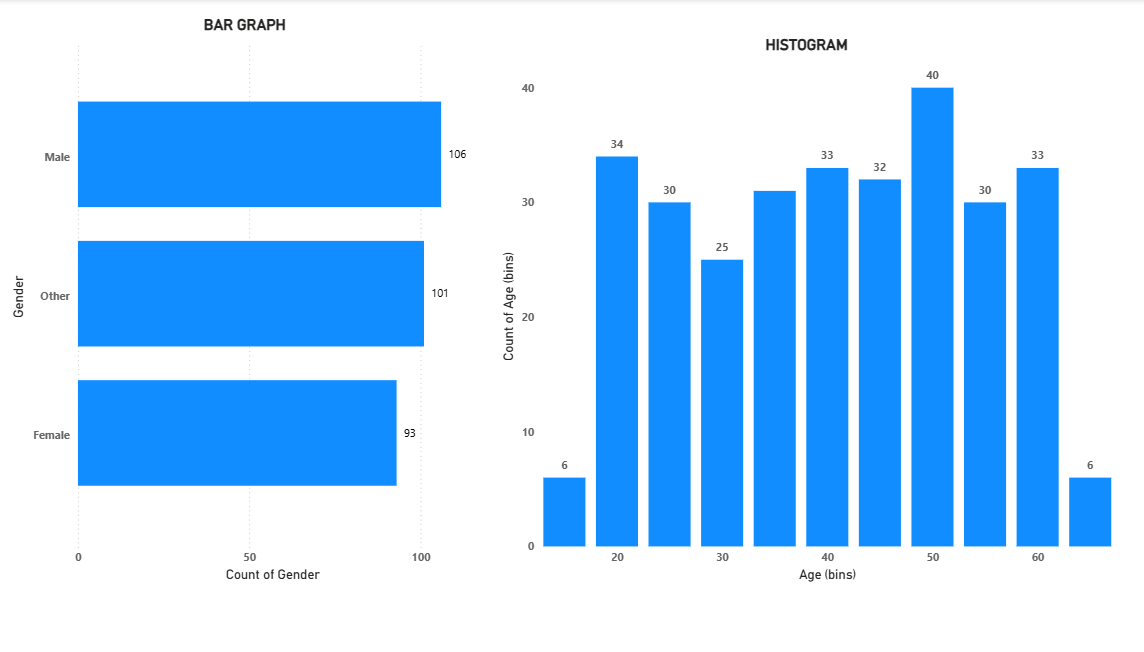

What the dashboard file says about the page in this screenshot:
{"tool":"powerbi","page":{"name":"Page 1","canvas":[1280,720],"ordinal":0},"visuals":[{"type":"clusteredBarChart","title":"BAR GRAPH","fields":{"Category":["task1 csv.Gender"],"Y":["CountNonNull(task1 csv.Gender)"]},"box":[23.3,17.8,521.4,627.1],"z":0},{"type":"clusteredColumnChart","title":"HISTOGRAM","fields":{"Category":["task1 csv.Age (bins)"],"Y":["CountNonNull(task1 csv.Age (bins))"]},"box":[561.2,39.8,679.2,605.1],"z":1}]}

Visuals, with their boxes in screenshot pixels (x1, y1, x2, y2), scaled from the page's 1280x720 canvas onto the 1144x652 screenshot:
"BAR GRAPH" clusteredBarChart: BBox(21, 16, 487, 584)
"HISTOGRAM" clusteredColumnChart: BBox(502, 36, 1109, 584)
